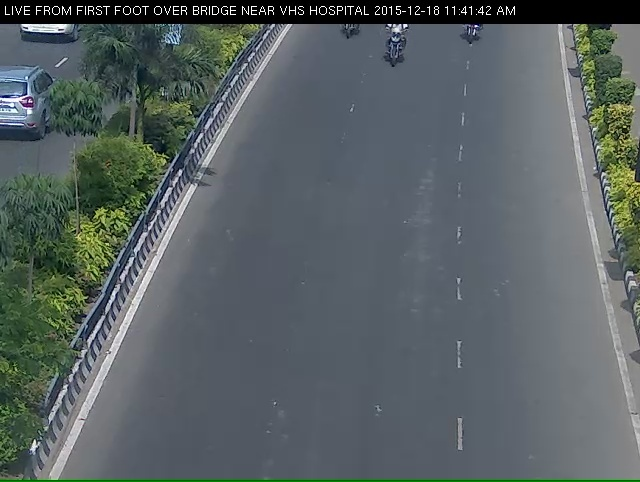Person: (372, 25, 411, 90), (328, 19, 359, 53)
